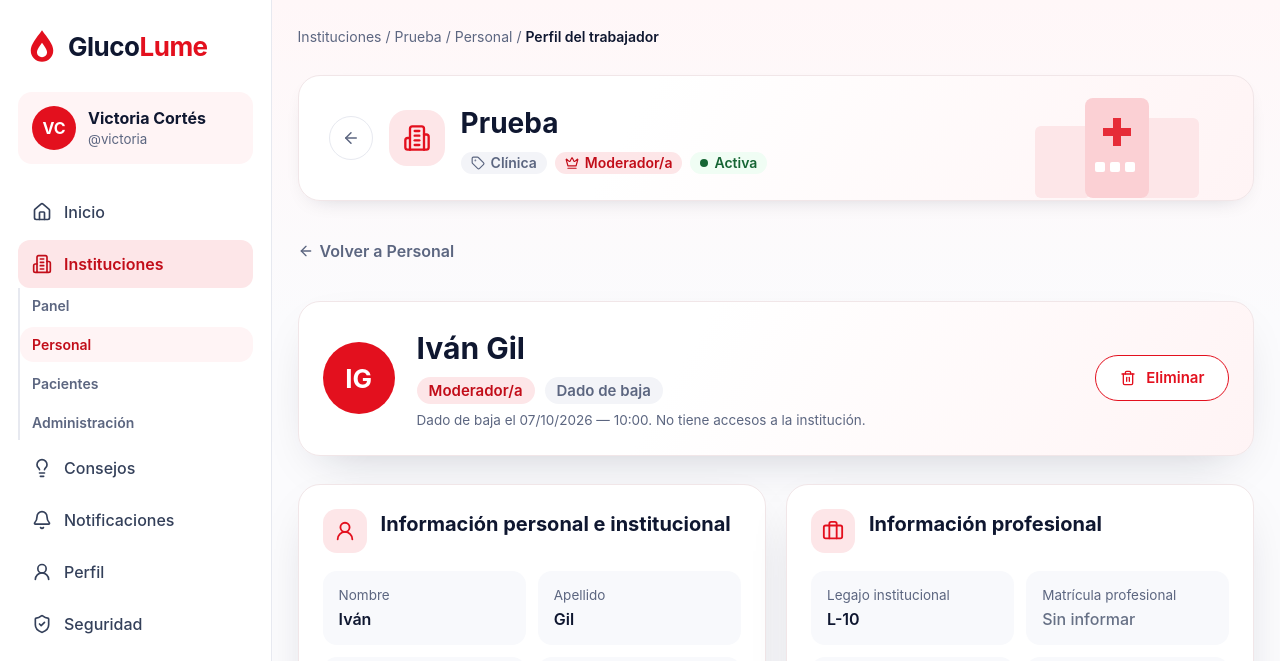
Test: Personal: perfil individual › elimina a una persona dada de baja solo si acepta el modal; si cancela sigue como Dado de baja
Expected: the text with class "ui-badge" reads "Dado de baja", left=556, top=381, right=651, bottom=400
Click the button with aria-label "Eliminar a Iván Gil": click(1162, 378) left=1095, top=355, right=1229, bottom=401
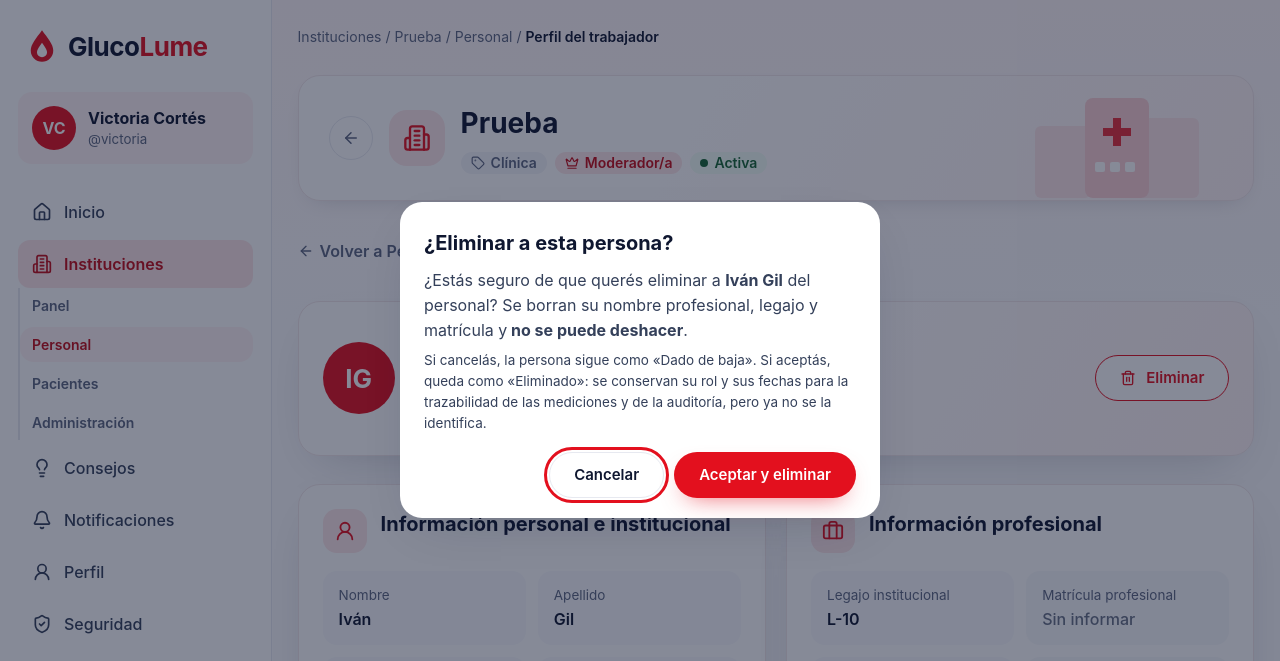
Result: the text "no se puede deshacer" is shown at left=507, top=320, right=683, bottom=340
Click the button "Cancelar": click(607, 475) left=549, top=452, right=664, bottom=498
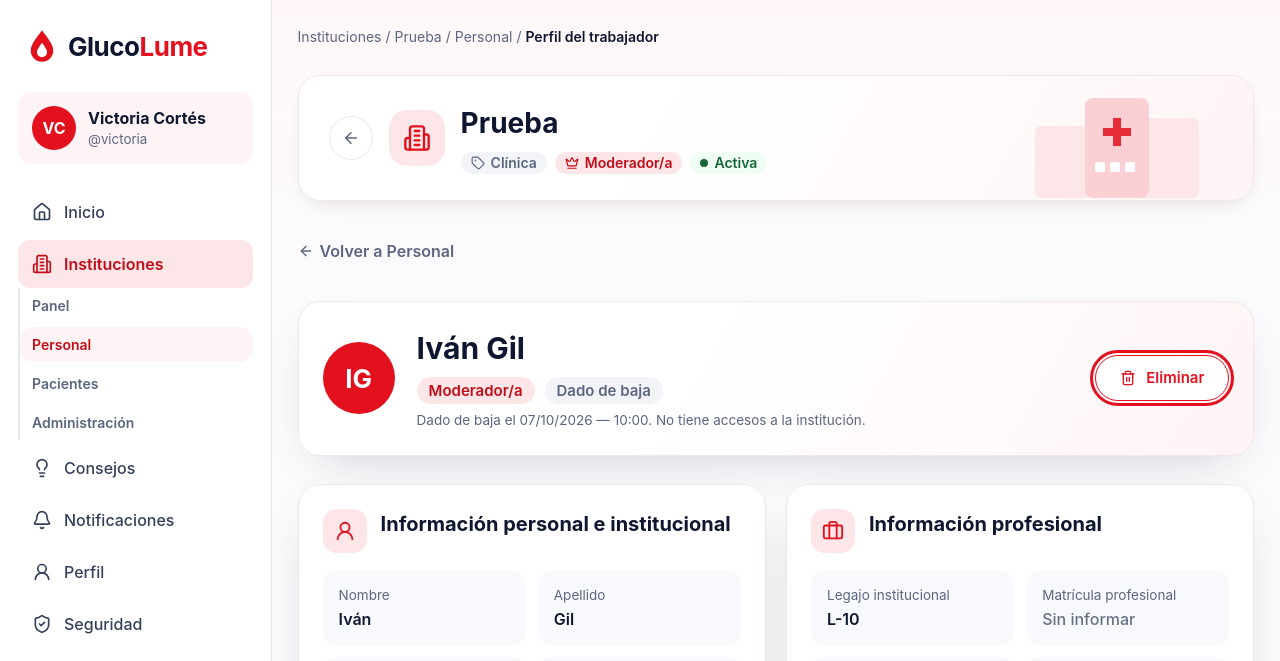
Expected: the text with class "ui-badge" reads "Dado de baja", left=556, top=381, right=651, bottom=400
Result: the dialog is gone
Click the button with aria-label "Eliminar a Iván Gil": click(1162, 378) left=1095, top=355, right=1229, bottom=401
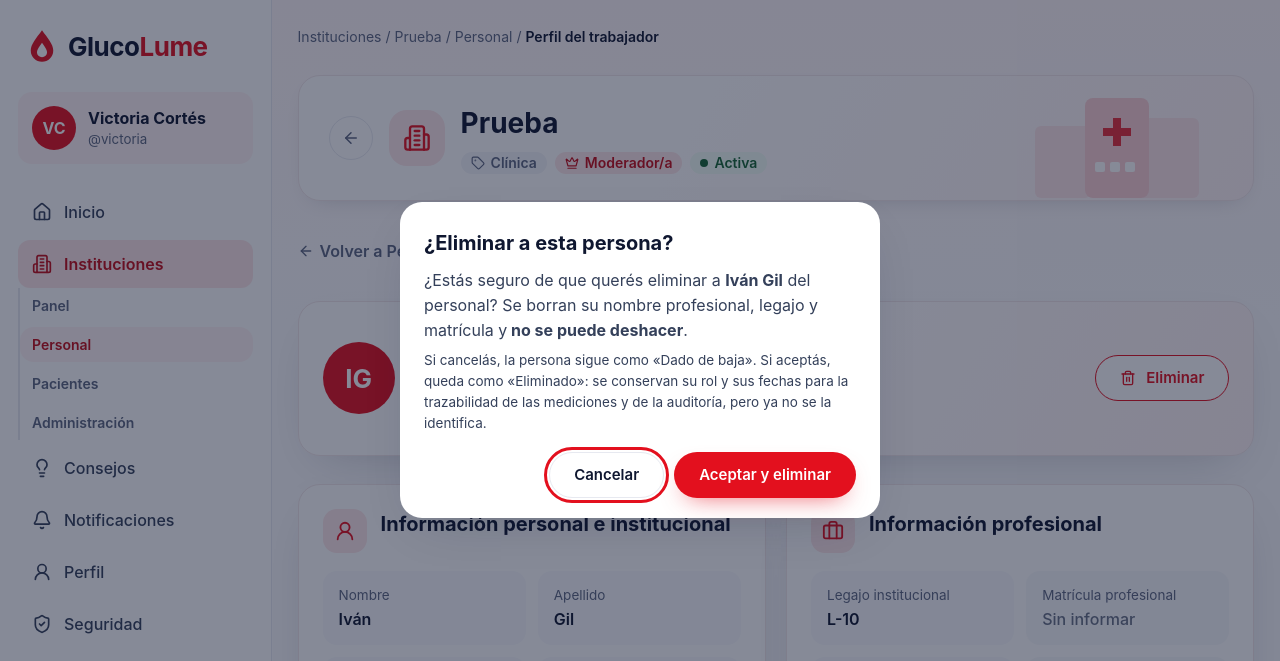
Click the button "Aceptar y eliminar": click(765, 475) left=674, top=452, right=856, bottom=498
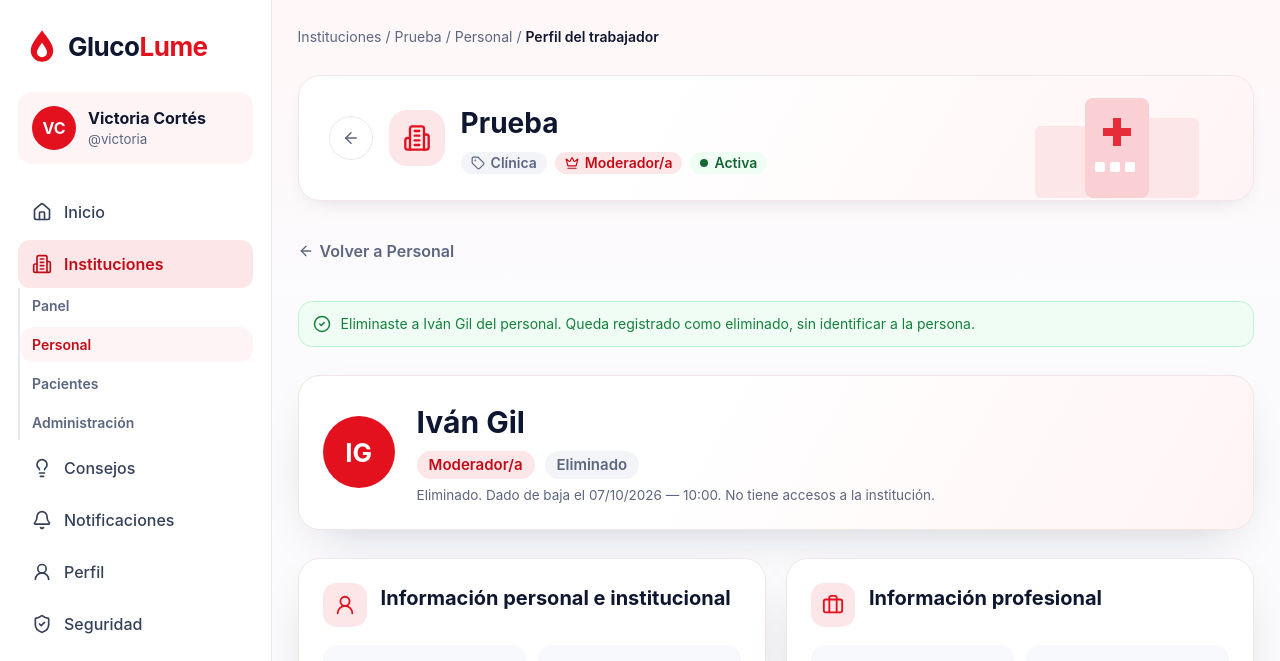
Result: the text "Eliminaste a Iván Gil del personal" is shown at left=341, top=315, right=975, bottom=332
Result: the text with class "ui-badge" reads "Eliminado" at left=556, top=455, right=627, bottom=474
Result: the heading "Eliminar a" is gone
